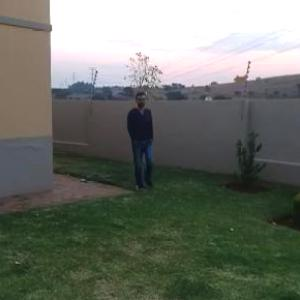follow: (123, 89, 157, 189)
